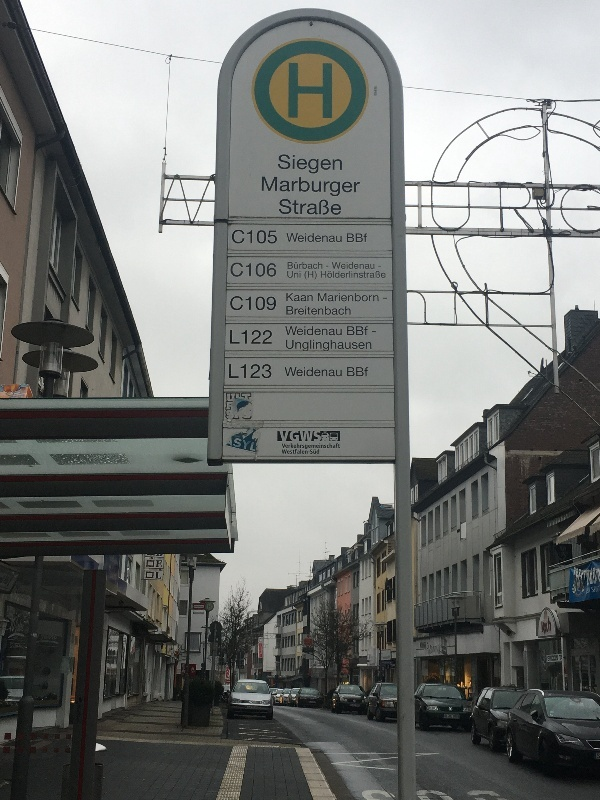text: (289, 63, 304, 119), (305, 63, 320, 119), (321, 63, 332, 119), (273, 176, 288, 197), (289, 176, 304, 197), (305, 176, 320, 197), (321, 176, 336, 197), (337, 176, 352, 197), (577, 568, 592, 588), (289, 154, 304, 174), (305, 154, 320, 174), (321, 154, 336, 174), (242, 401, 256, 420), (289, 199, 304, 216), (305, 199, 320, 216), (321, 199, 336, 216), (241, 437, 256, 452), (241, 262, 256, 277), (257, 262, 272, 277), (241, 330, 256, 345), (257, 330, 272, 345), (241, 364, 256, 379), (257, 364, 272, 379), (262, 176, 272, 197), (241, 230, 256, 244), (257, 230, 272, 244), (241, 297, 256, 311), (257, 297, 272, 311), (289, 339, 304, 353), (305, 339, 320, 353), (321, 339, 336, 353), (337, 339, 352, 353), (353, 339, 368, 353), (278, 154, 288, 174), (305, 430, 321, 442), (353, 176, 362, 197), (289, 430, 304, 442), (229, 364, 240, 379), (289, 366, 304, 377), (305, 366, 320, 377), (321, 366, 336, 377), (227, 667, 240, 679), (242, 393, 256, 404), (279, 199, 288, 216), (545, 610, 560, 620), (230, 330, 240, 345), (289, 233, 304, 243), (305, 233, 320, 243), (321, 233, 336, 243), (289, 326, 304, 336), (305, 326, 320, 336), (321, 326, 336, 336), (353, 326, 368, 336), (353, 367, 368, 377), (593, 568, 600, 588), (226, 402, 240, 412), (226, 410, 240, 420), (353, 233, 367, 243), (231, 262, 240, 277), (305, 271, 320, 280), (289, 293, 304, 302), (321, 293, 336, 302), (337, 293, 352, 302), (353, 293, 368, 302), (289, 306, 304, 315), (305, 306, 320, 315), (321, 306, 336, 315), (433, 642, 443, 655), (227, 393, 240, 403), (147, 559, 160, 569), (147, 571, 160, 581), (231, 297, 240, 311), (337, 306, 351, 315), (289, 262, 304, 270), (305, 262, 320, 270), (337, 262, 352, 270), (353, 262, 368, 270), (321, 271, 336, 279), (337, 271, 352, 279), (353, 271, 368, 279), (369, 271, 384, 279), (545, 617, 552, 634), (232, 230, 240, 244), (289, 443, 304, 450), (305, 443, 320, 450), (321, 443, 336, 450), (337, 154, 342, 174), (280, 430, 288, 442), (369, 293, 379, 302), (289, 449, 304, 455), (305, 449, 320, 455), (548, 655, 560, 662), (289, 271, 301, 278), (420, 642, 432, 648), (305, 293, 313, 302), (337, 199, 341, 216), (427, 642, 432, 655), (236, 437, 240, 452), (273, 262, 277, 277), (273, 230, 277, 244), (337, 366, 342, 377), (337, 233, 342, 243), (347, 233, 352, 243), (337, 326, 342, 336), (347, 326, 352, 336), (347, 367, 352, 377), (593, 586, 600, 593), (369, 262, 375, 270), (273, 297, 276, 311), (369, 339, 372, 353), (282, 443, 288, 450), (449, 715, 459, 719), (587, 587, 592, 595), (574, 568, 576, 588), (282, 449, 288, 455), (542, 617, 544, 634), (285, 366, 288, 377), (332, 262, 336, 270), (286, 339, 288, 353), (372, 331, 384, 333), (337, 443, 340, 450), (286, 326, 288, 336), (161, 559, 163, 569), (597, 753, 600, 759), (318, 293, 320, 302), (321, 262, 323, 270), (257, 437, 258, 452), (445, 715, 448, 719), (287, 233, 288, 243), (326, 266, 336, 267), (161, 571, 162, 581), (287, 293, 288, 302), (287, 306, 288, 315), (385, 271, 386, 279), (559, 655, 560, 661), (561, 655, 562, 661), (378, 266, 384, 267), (385, 298, 387, 299), (383, 298, 384, 299)
